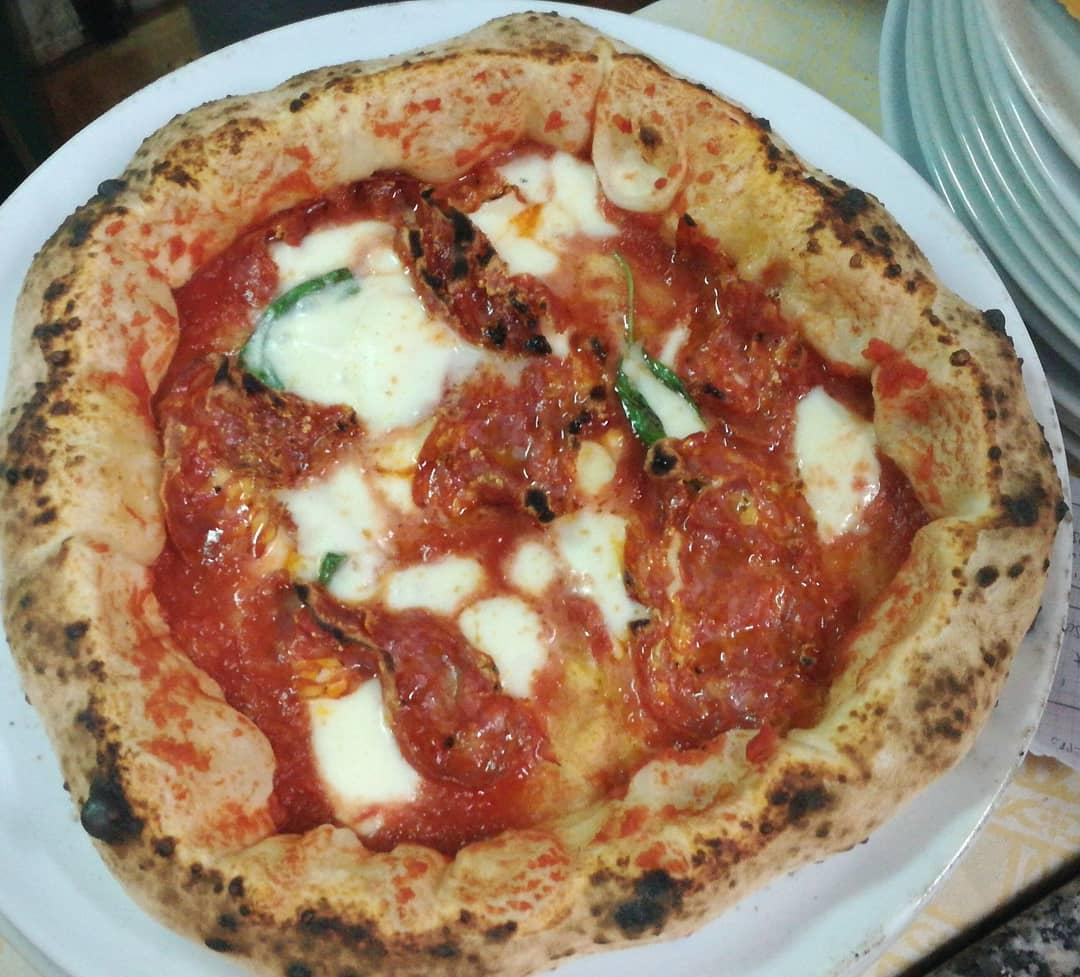Bacon: (423, 338, 609, 539), (381, 174, 538, 348), (384, 634, 516, 766), (694, 501, 785, 630)
Basil: (241, 268, 361, 402), (614, 351, 694, 442)
Cheese: (254, 218, 450, 428), (298, 678, 438, 810), (488, 154, 614, 275), (294, 474, 392, 595), (801, 391, 880, 533), (568, 518, 645, 622), (474, 601, 541, 673), (394, 561, 483, 613)
Pizza: (0, 24, 1045, 977)
